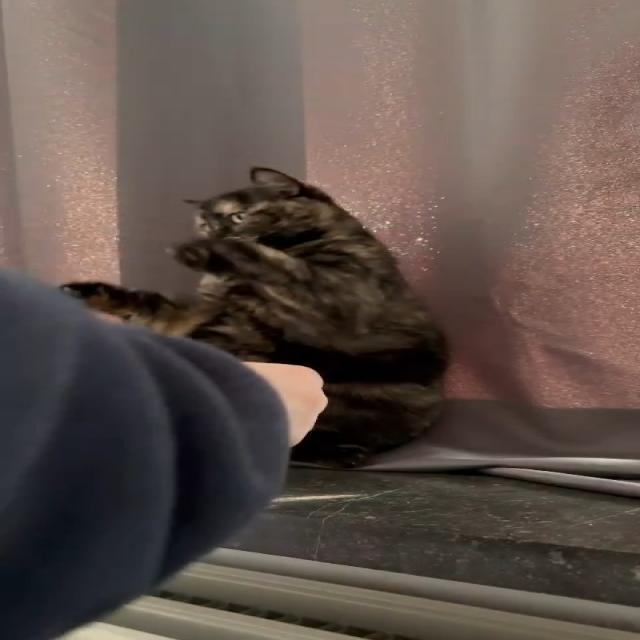authorized: (57, 165, 452, 468)
